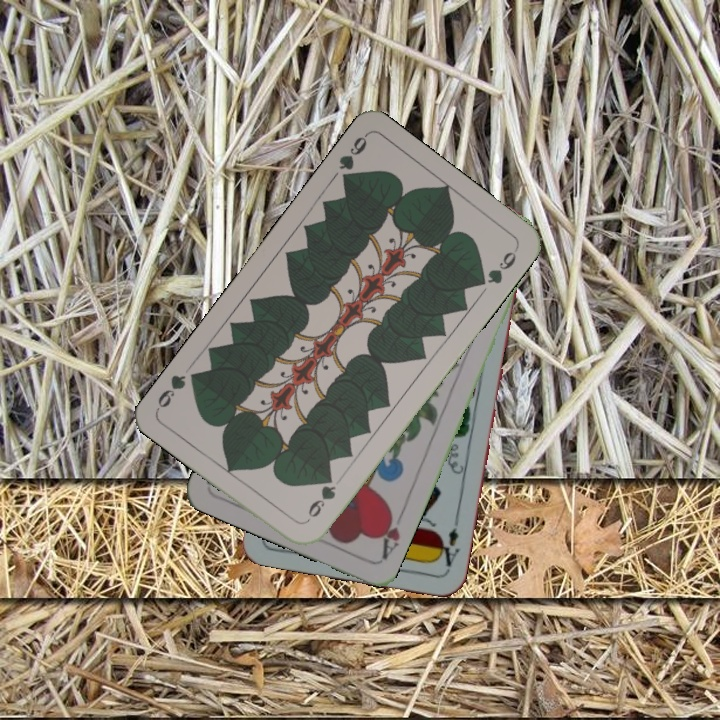EA: (433, 523, 462, 573)
G9: (334, 131, 370, 188), (302, 471, 339, 525)
HA: (374, 506, 407, 562)
